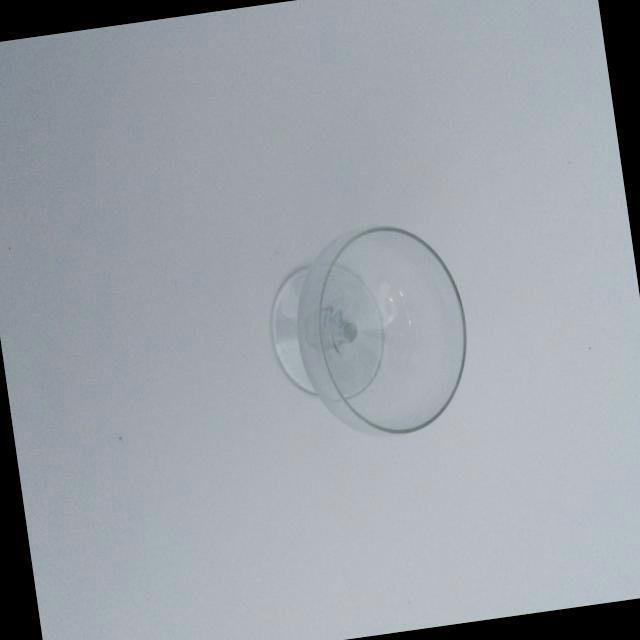glass: (243, 206, 492, 472)
